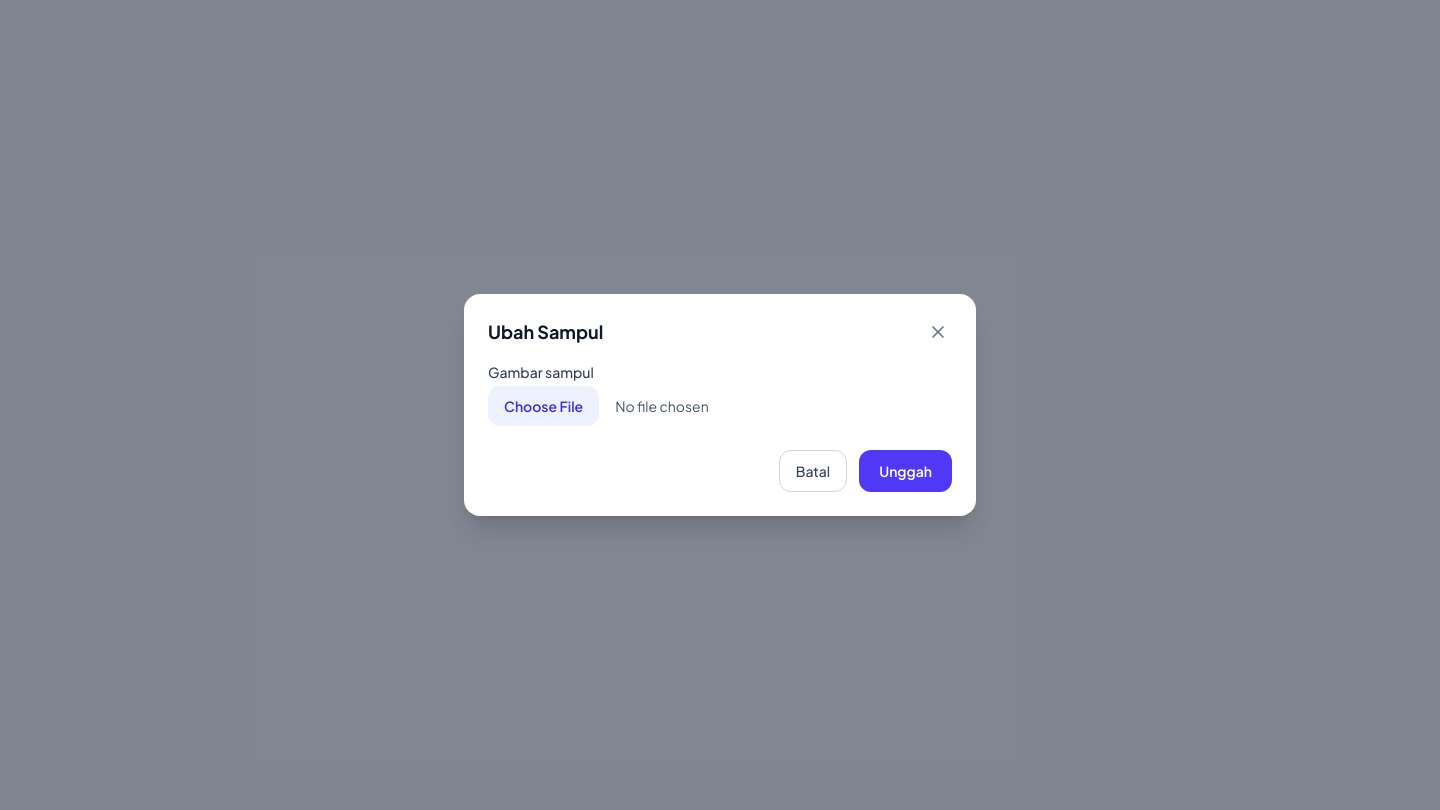
Test: ChangeCoverModal › menampilkan error bila belum memilih gambar
This screenshot has width=1440, height=810.
What coordinates should you click on to do the following:
click the button "Unggah"
I would click on:
 (906, 471)
Its box is [859, 450, 952, 492].
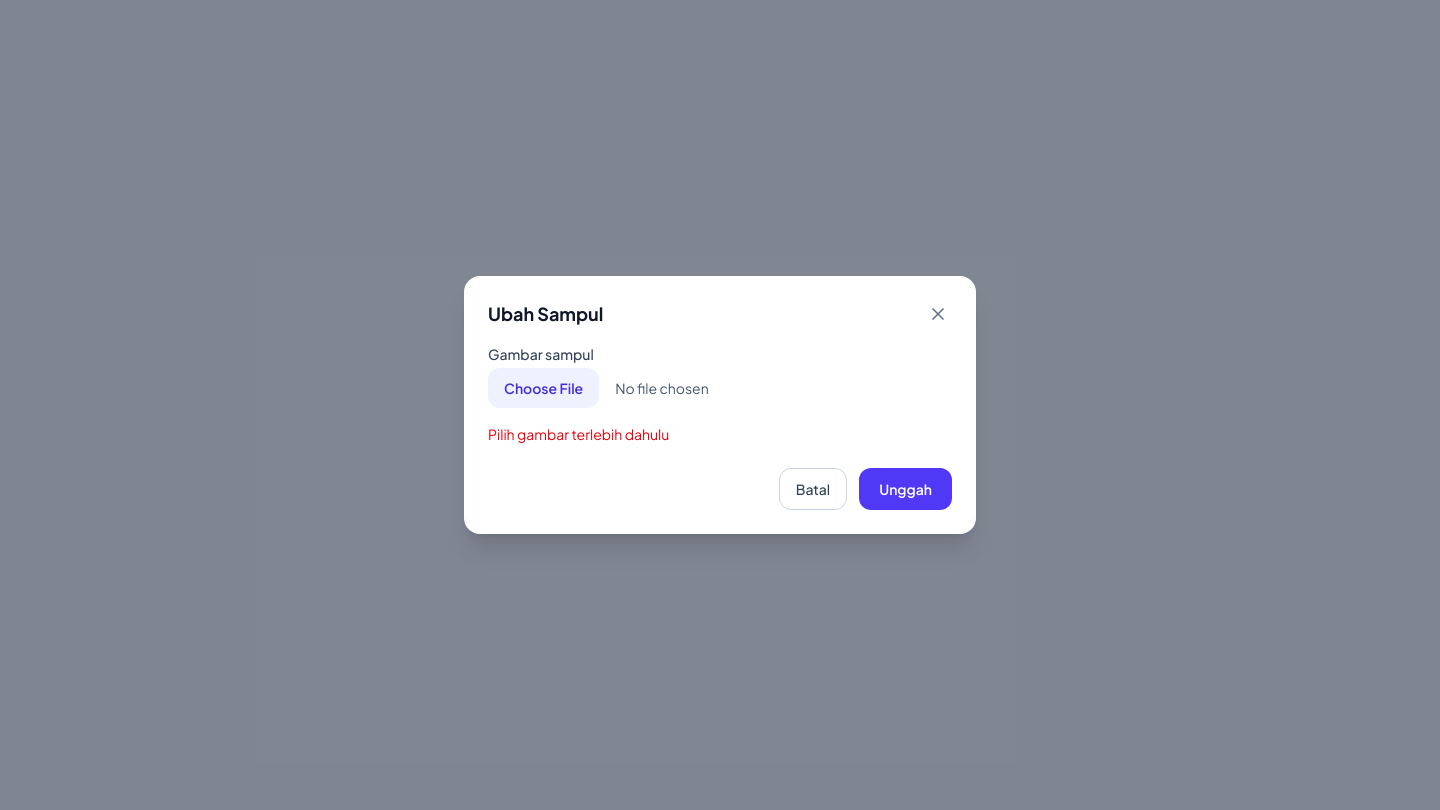
expect the message reads "Pilih gambar terlebih dahulu": met, box [488, 425, 669, 443]
